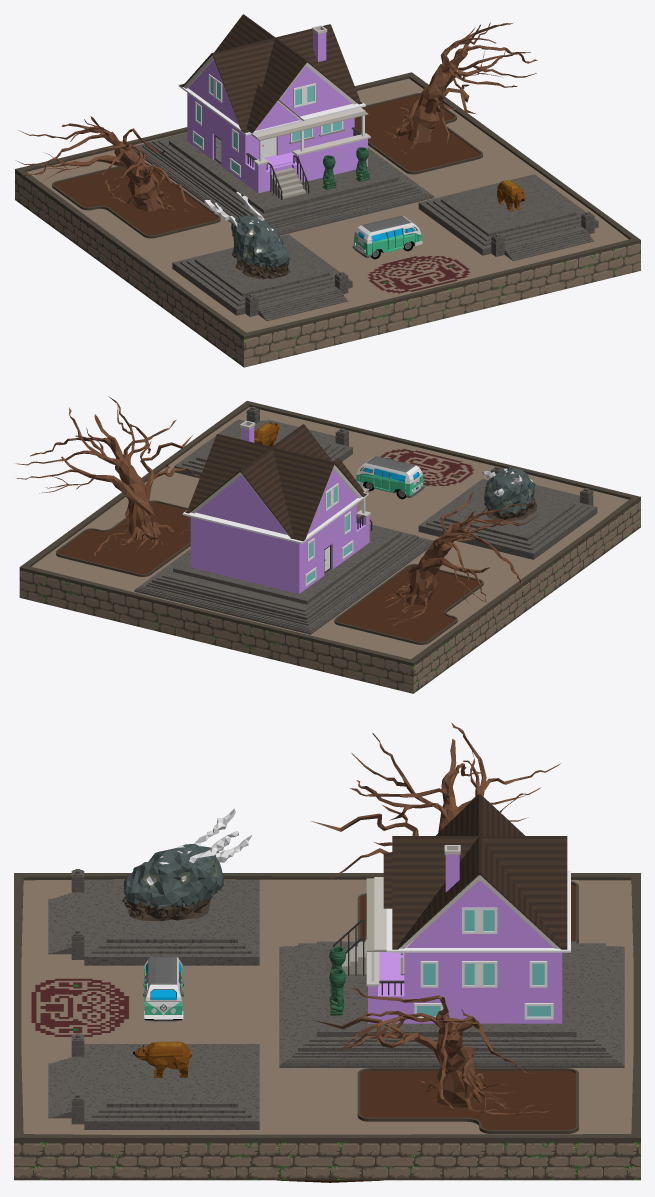
3 views of the same model, one above another, from view 1: azimuth 30°, elevation 25°; view 2: azimuth 150°, elevation 25°; view 3: azimuth 270°, elevation 25° (orthographic). The views are drawn at different scales.
Visible parts, largest first — view 1: Cube.011, Cube.391, OBJRANDOM_METEORITE, VEHICLES_VAN, ANIMAL_OSO; view 2: Cube.011, Cube.391, OBJRANDOM_METEORITE, VEHICLES_VAN, ANIMAL_OSO; view 3: Cube.011, Cube.391, OBJRANDOM_METEORITE, VEHICLES_VAN, ANIMAL_OSO.
Part boxes in pixels (x1,y1,x2,y2): Cube.011: [15, 22, 640, 367]; Cube.391: [178, 14, 370, 199]; OBJRANDOM_METEORITE: [204, 191, 290, 278]; VEHICLES_VAN: [352, 215, 422, 259]; ANIMAL_OSO: [497, 180, 525, 211]; Cube.011: [14, 396, 640, 693]; Cube.391: [182, 420, 372, 593]; OBJRANDOM_METEORITE: [482, 467, 537, 522]; VEHICLES_VAN: [356, 456, 424, 499]; ANIMAL_OSO: [254, 422, 279, 446]; Cube.011: [14, 722, 640, 1180]; Cube.391: [333, 794, 570, 1023]; OBJRANDOM_METEORITE: [122, 808, 251, 921]; VEHICLES_VAN: [143, 957, 183, 1021]; ANIMAL_OSO: [133, 1041, 192, 1078].
Size of the model in its own units: 5099 by 1726 by 4000.
Materials: 39 (5 with a texture image).
